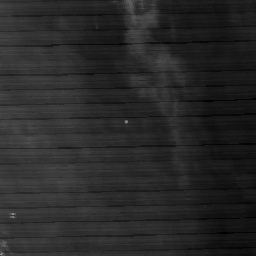Target: (123, 118, 129, 124)
